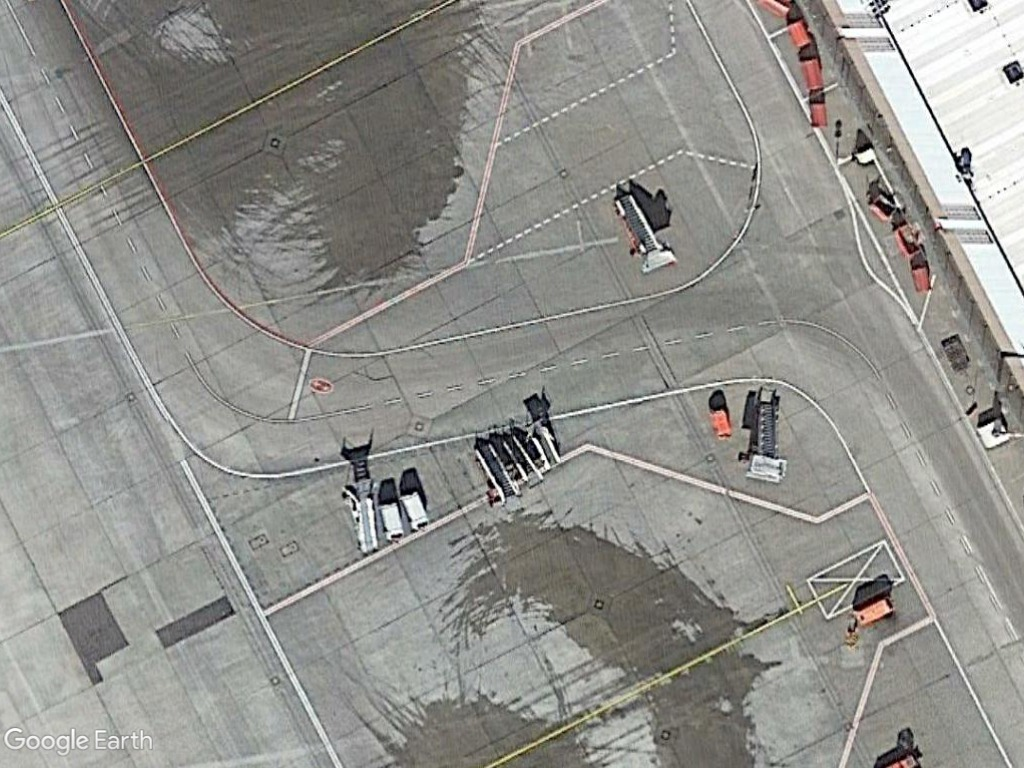stairtruck: (609, 188, 682, 277), (736, 380, 796, 486), (335, 478, 386, 557)
